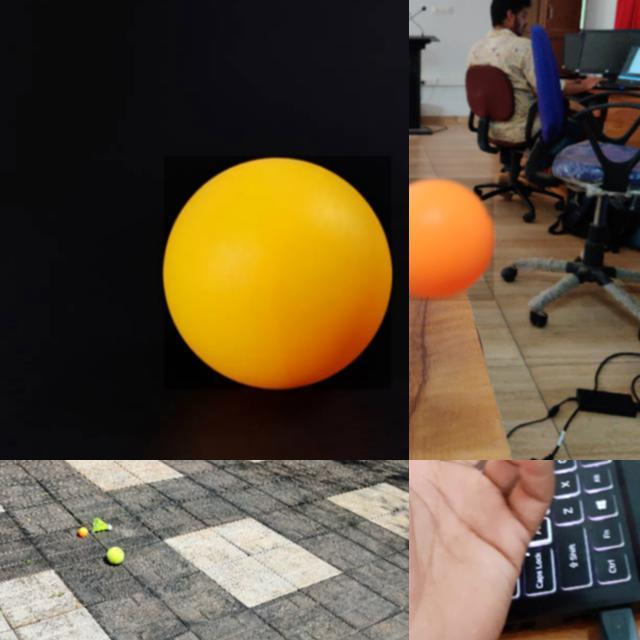ping-pong-ball: (164, 156, 392, 390), (409, 178, 496, 302), (77, 527, 86, 537)
